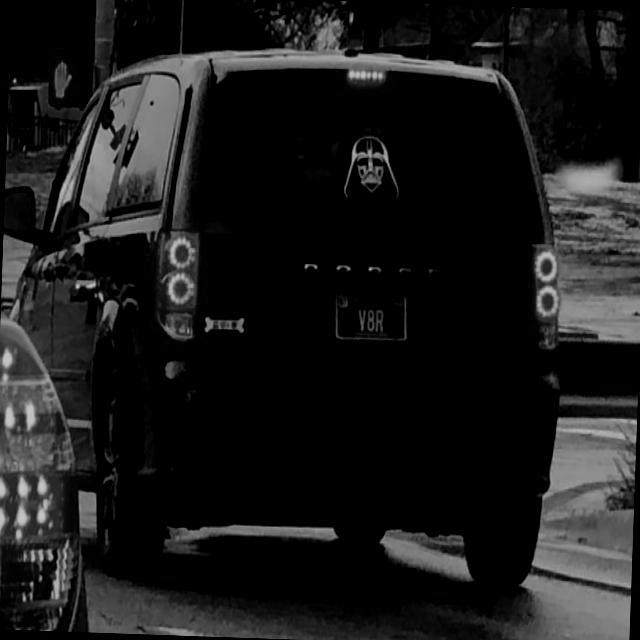LicensePlate: (332, 289, 406, 341)
